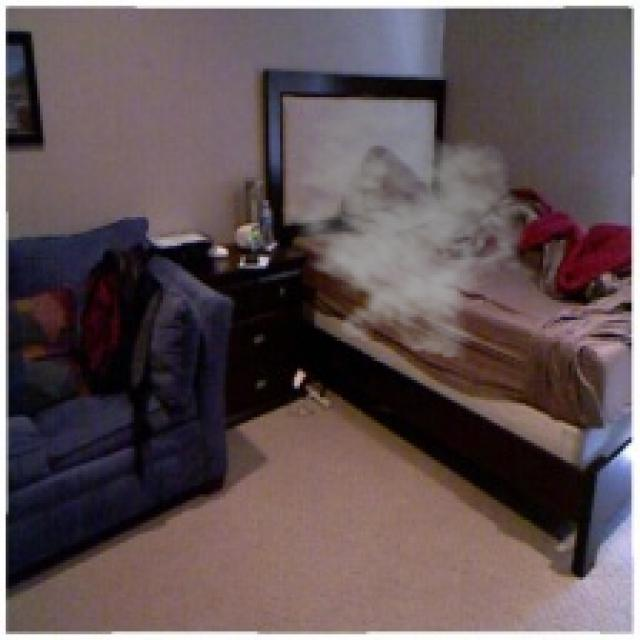smoke: (269, 91, 537, 360)
